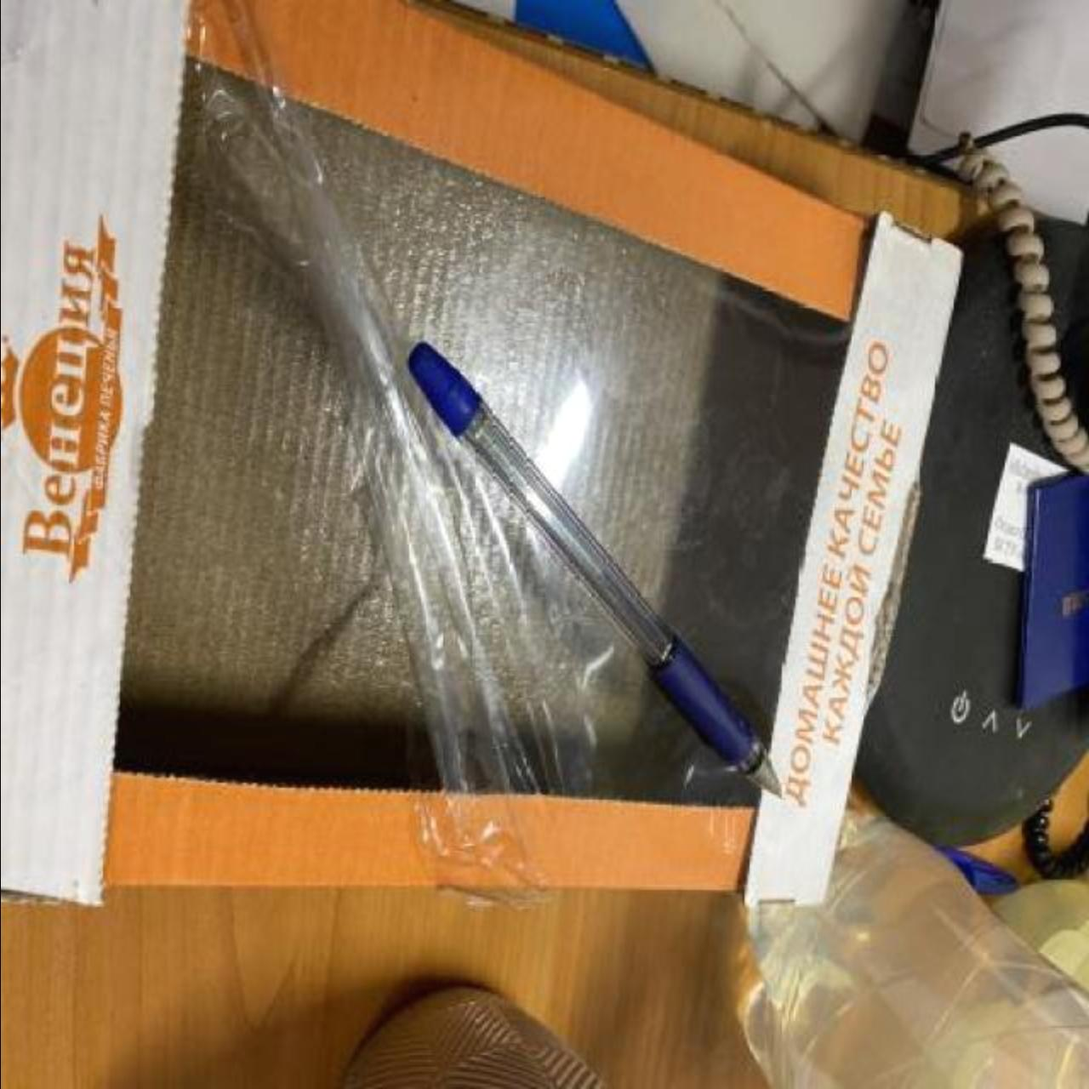pen: (402, 342, 784, 803)
